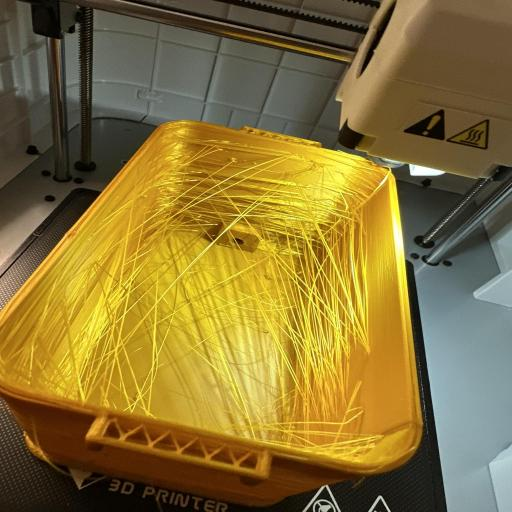stringing: (126, 154, 382, 432)
